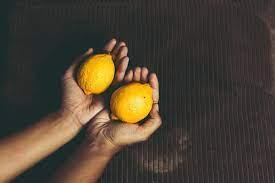lemon: (109, 82, 153, 122), (76, 54, 114, 95)
